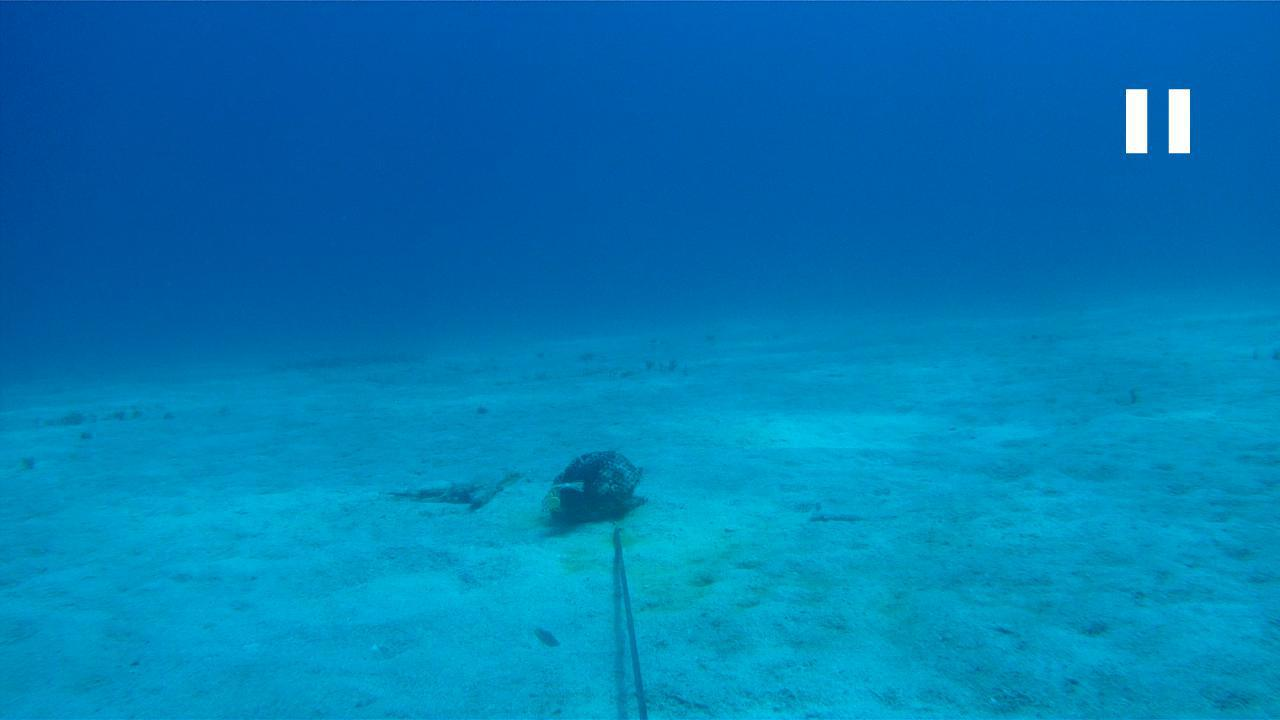bothus: (809, 496, 902, 525)
